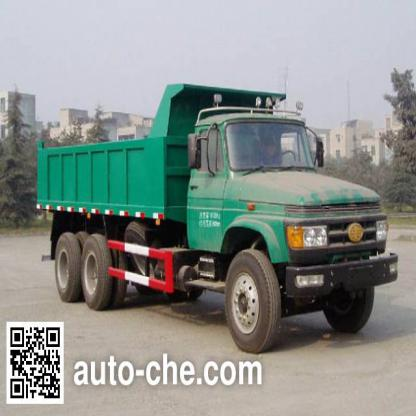normal-truck: (24, 73, 400, 336)
